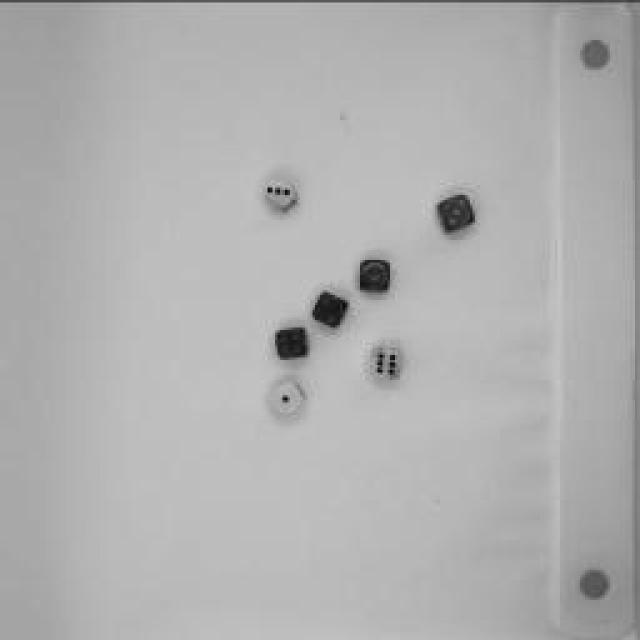dice_1: (265, 374, 310, 421), (358, 255, 398, 295)
dice_2: (310, 284, 350, 336)
dice_3: (256, 170, 299, 222), (435, 191, 475, 239)
dice_4: (270, 325, 315, 363)
dice_6: (365, 341, 405, 381)
